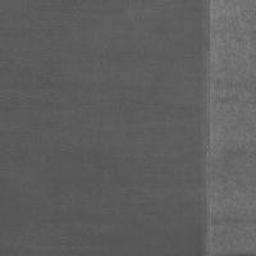Welding line: (204, 0, 211, 256)
